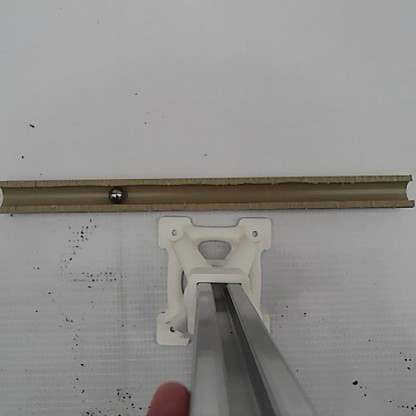ironball: (108, 185, 128, 205)
